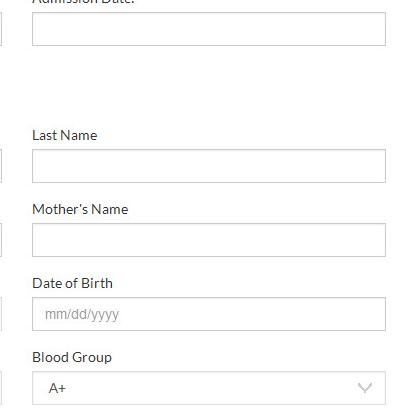field: (27, 294, 387, 334), (28, 221, 387, 260), (29, 9, 387, 48), (25, 146, 387, 184), (30, 371, 387, 408)
field_with_label: (23, 127, 389, 188), (26, 350, 390, 411), (26, 276, 390, 336), (25, 203, 390, 261)
